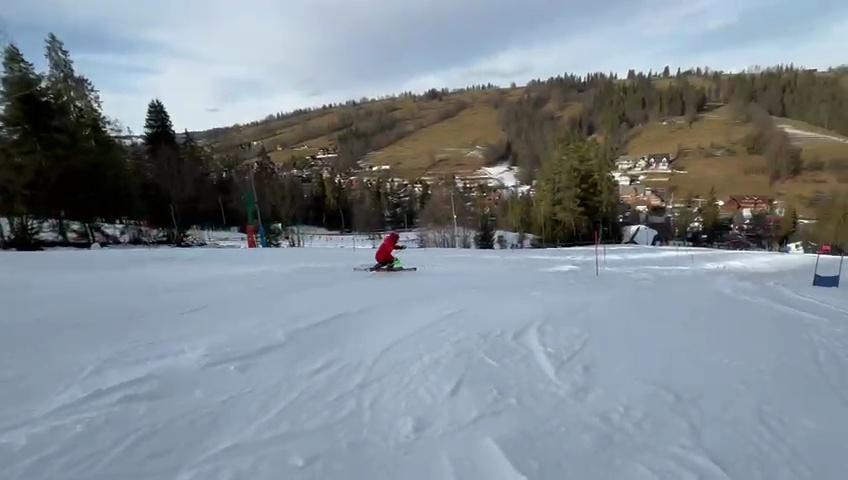gate: (813, 235, 825, 310), (835, 243, 848, 310), (590, 228, 600, 282)
